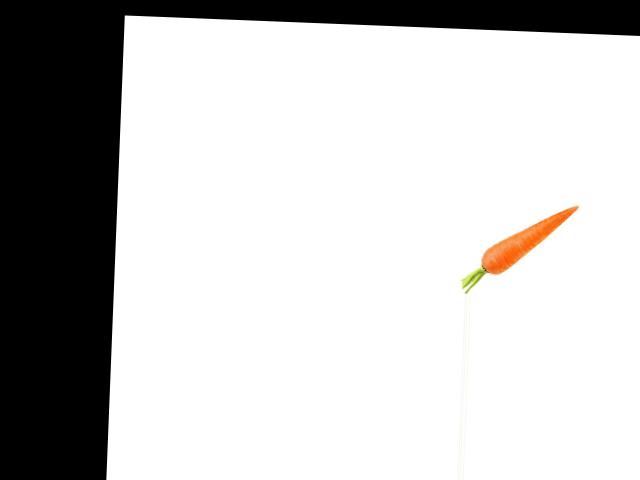carrot: (474, 199, 580, 280)
